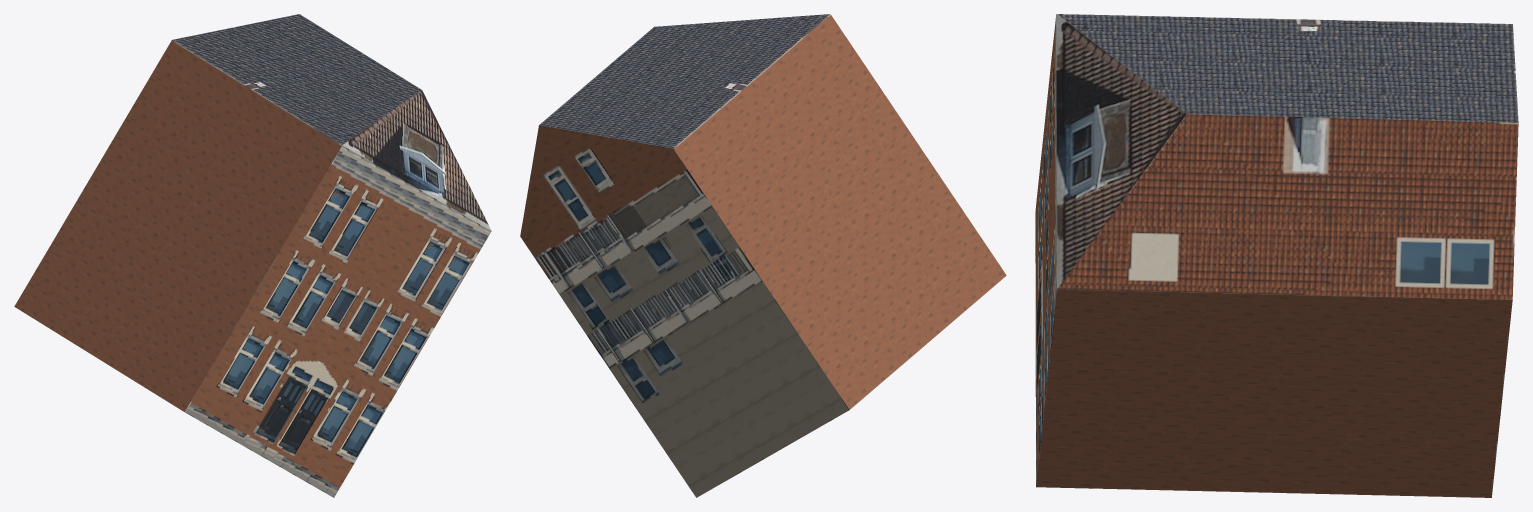
3 views of the same model, side by side, from view 1: azimuth 30°, elevation 25°; view 2: azimuth 150°, elevation 25°; view 3: azimuth 270°, elevation 25° (orthographic). The views are drawn at different scales.
Parts seen in each view (by area): view 1: BAG_0599100000760396 (×2); view 2: BAG_0599100000760396 (×2); view 3: BAG_0599100000760396 (×3).
Part boxes in pixels (left/top/right/bottom): BAG_0599100000760396 (×2): left=14, top=14, right=491, bottom=497; BAG_0599100000760396 (×2): left=520, top=14, right=1006, bottom=497; BAG_0599100000760396 (×3): left=1035, top=14, right=1518, bottom=497.
Size of the model in its own units: 13.51 by 14.18 by 12.42.
Materials: 1 (1 with a texture image).
